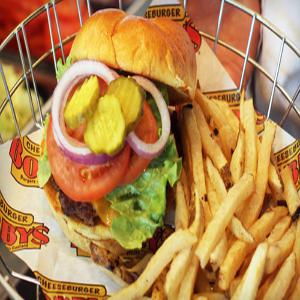cheeseburger: (40, 5, 197, 268)
fries: (183, 85, 298, 300)
